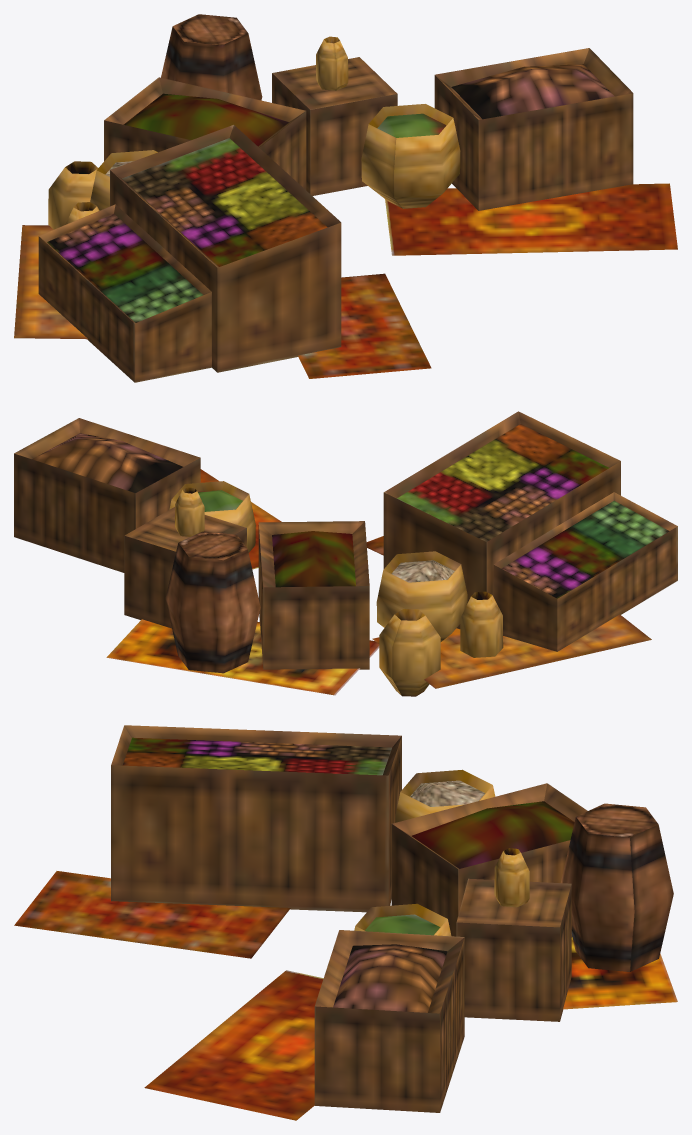
File: treasure_persian_food_big.glb
3 renders of one model, top to bottom at view 1: azimuth 30°, elevation 25°; view 2: azimuth 150°, elevation 25°; view 3: azimuth 270°, elevation 25°, orthographic. The views are drawn at different scales.
Visible parts, largest first — view 1: treasure_persian_food_big_part0; view 2: treasure_persian_food_big_part0; view 3: treasure_persian_food_big_part0.
Boxes of the visible parts, x1,y1,x2,y2 form: treasure_persian_food_big_part0: (14, 14, 677, 382); treasure_persian_food_big_part0: (14, 411, 677, 696); treasure_persian_food_big_part0: (14, 725, 677, 1120).
Bounding box in the file's own units: 5.9 × 1.34 × 4.78.
1 material, 1 textured.
